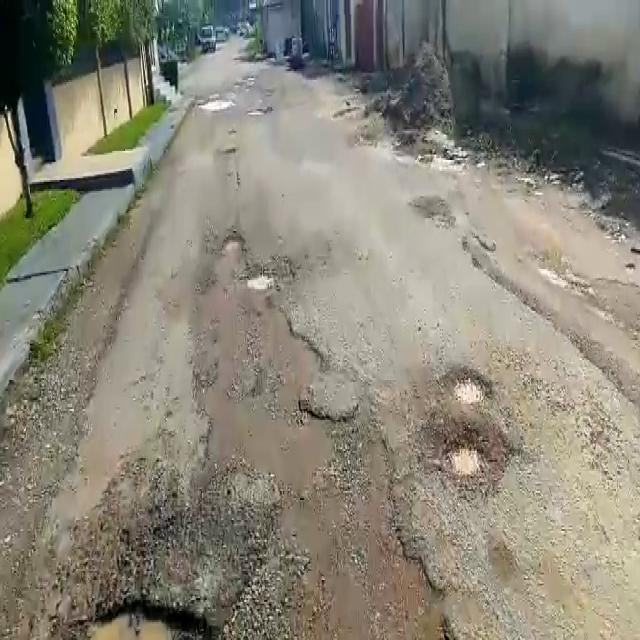Pothole: (91, 603, 204, 640), (445, 422, 484, 486), (444, 364, 490, 408), (219, 227, 245, 257), (242, 273, 272, 293)
